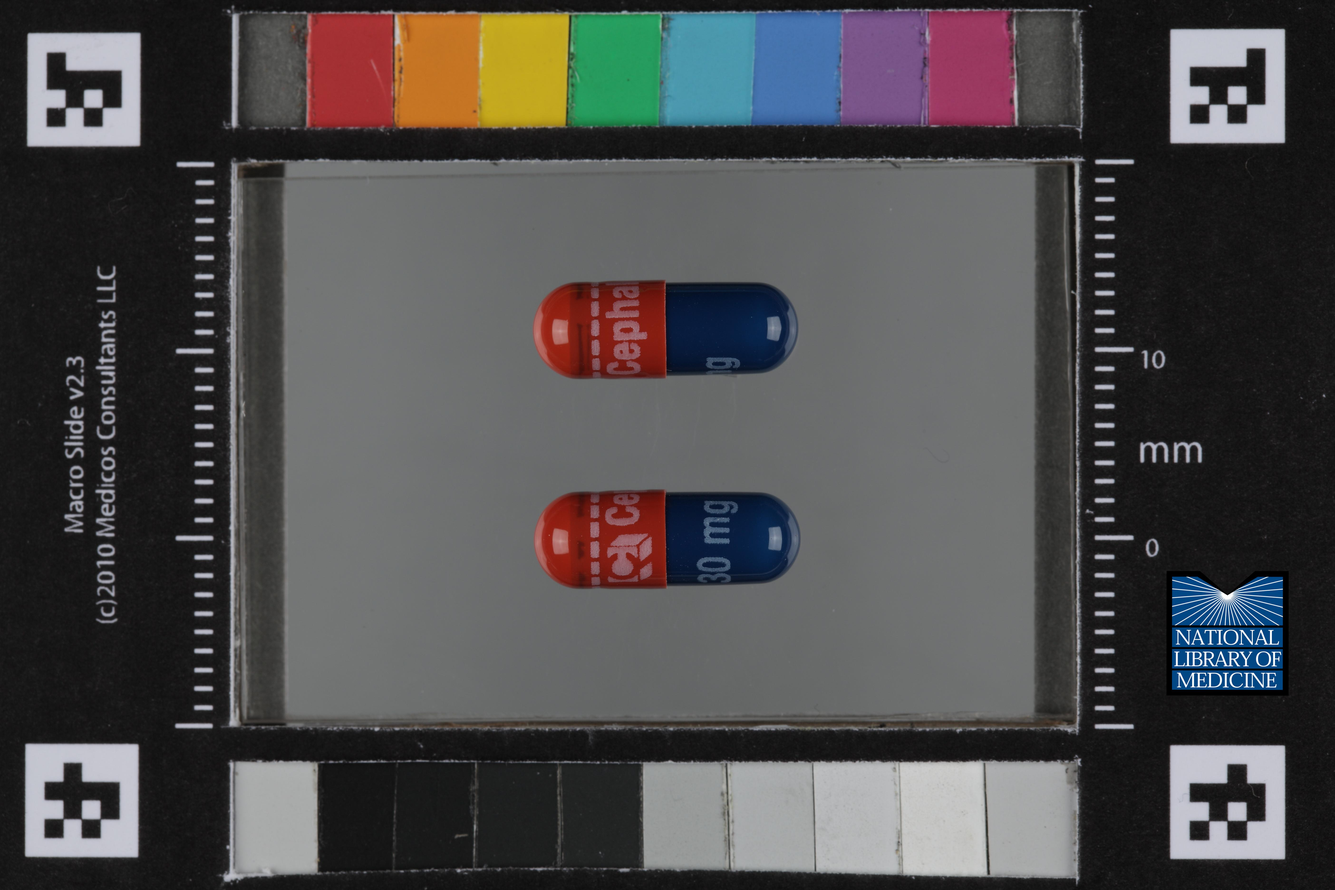Pill: (516, 259, 816, 401), (509, 468, 814, 604)
